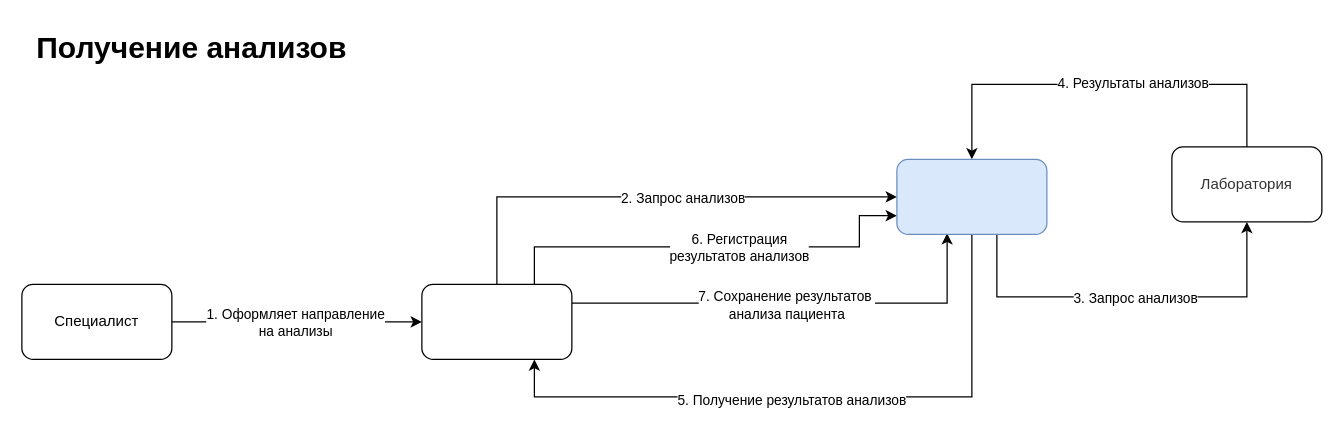
This 1344x429 diagram has some shape labels left out. The centre of each missing label's shape, as x and y in pixels:
"Платформа управления данными" goes at (x=971, y=196).
"Сотрудник ресепшена" goes at (x=496, y=321).
